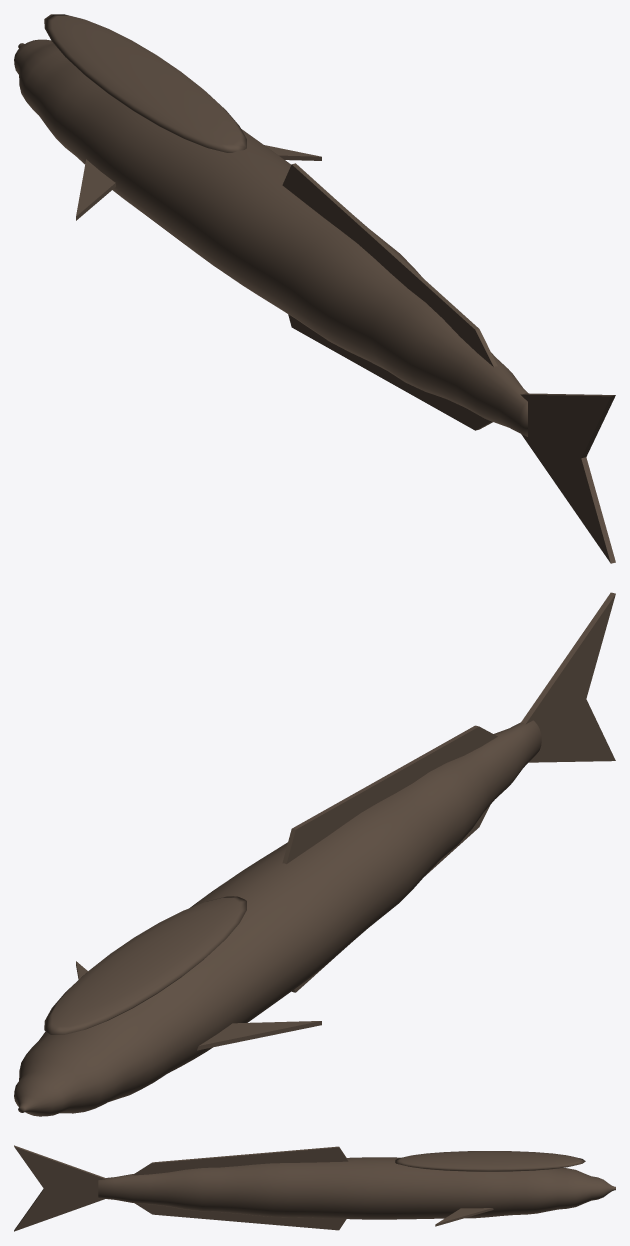
The model's file is remora-remora_placeholder.glb.
The picture shows the model from 3 angles, top to bottom: view 1: azimuth 30°, elevation 25°; view 2: azimuth 150°, elevation 25°; view 3: azimuth 270°, elevation 25°; orthographic projection. The views are drawn at different scales.
Visible parts, largest first — view 1: remora-placeholder; view 2: remora-placeholder; view 3: remora-placeholder.
Boxes of the visible parts, box(x1,y1,x2,y2) form: remora-placeholder: box(14, 14, 615, 563); remora-placeholder: box(14, 592, 615, 1116); remora-placeholder: box(14, 1145, 615, 1231).
Bounding box in the file's own units: 0.24 × 0.156 × 1.
